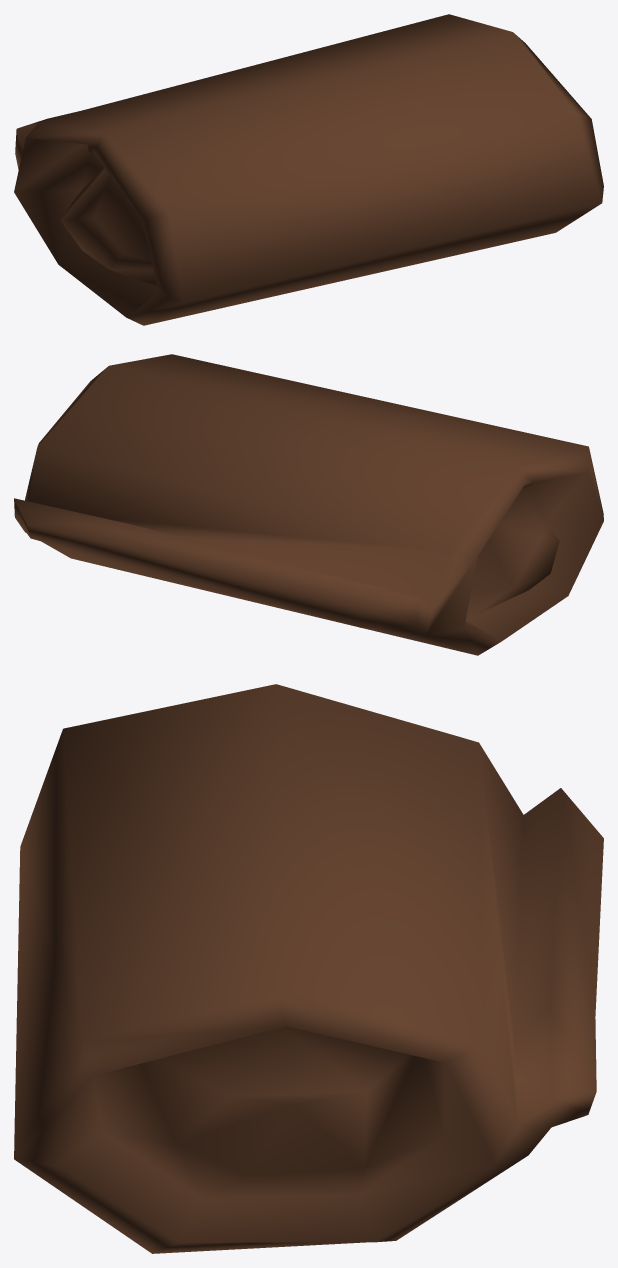
File: packed_sleeping_bag.glb
The picture shows the model from 3 angles, top to bottom: view 1: azimuth 30°, elevation 25°; view 2: azimuth 150°, elevation 25°; view 3: azimuth 270°, elevation 25°; orthographic projection. The views are drawn at different scales.
Parts seen in each view (by area): view 1: Cube; view 2: Cube; view 3: Cube.
Part boxes in pixels (bbox=[...]): Cube: bbox=[14, 14, 603, 325]; Cube: bbox=[14, 354, 603, 655]; Cube: bbox=[14, 684, 603, 1253].
Size of the model in its own units: 0.5246 by 0.1908 by 0.3875.
